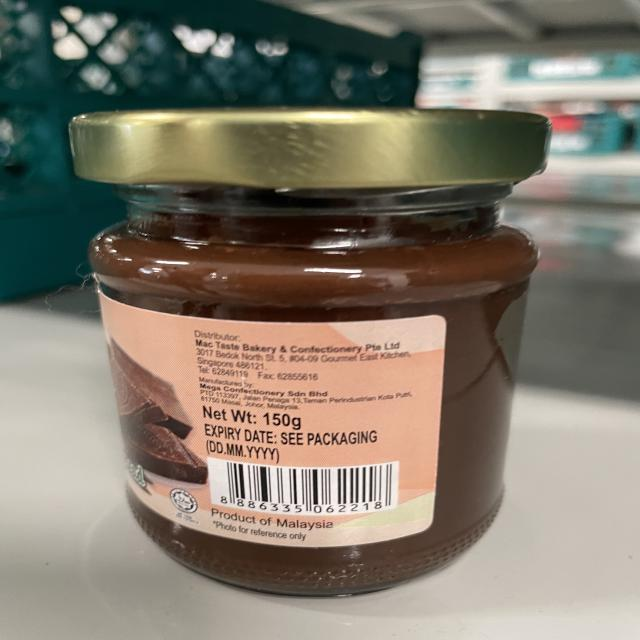object_name: (84, 116, 536, 597)
